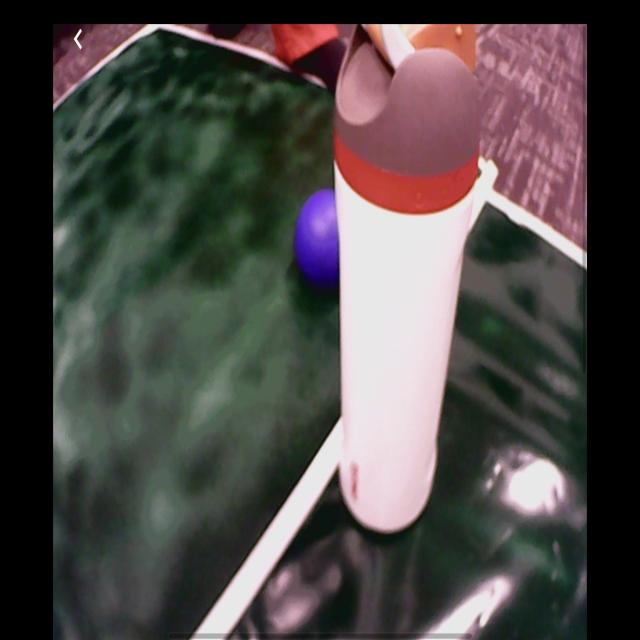ball: (296, 190, 343, 283)
